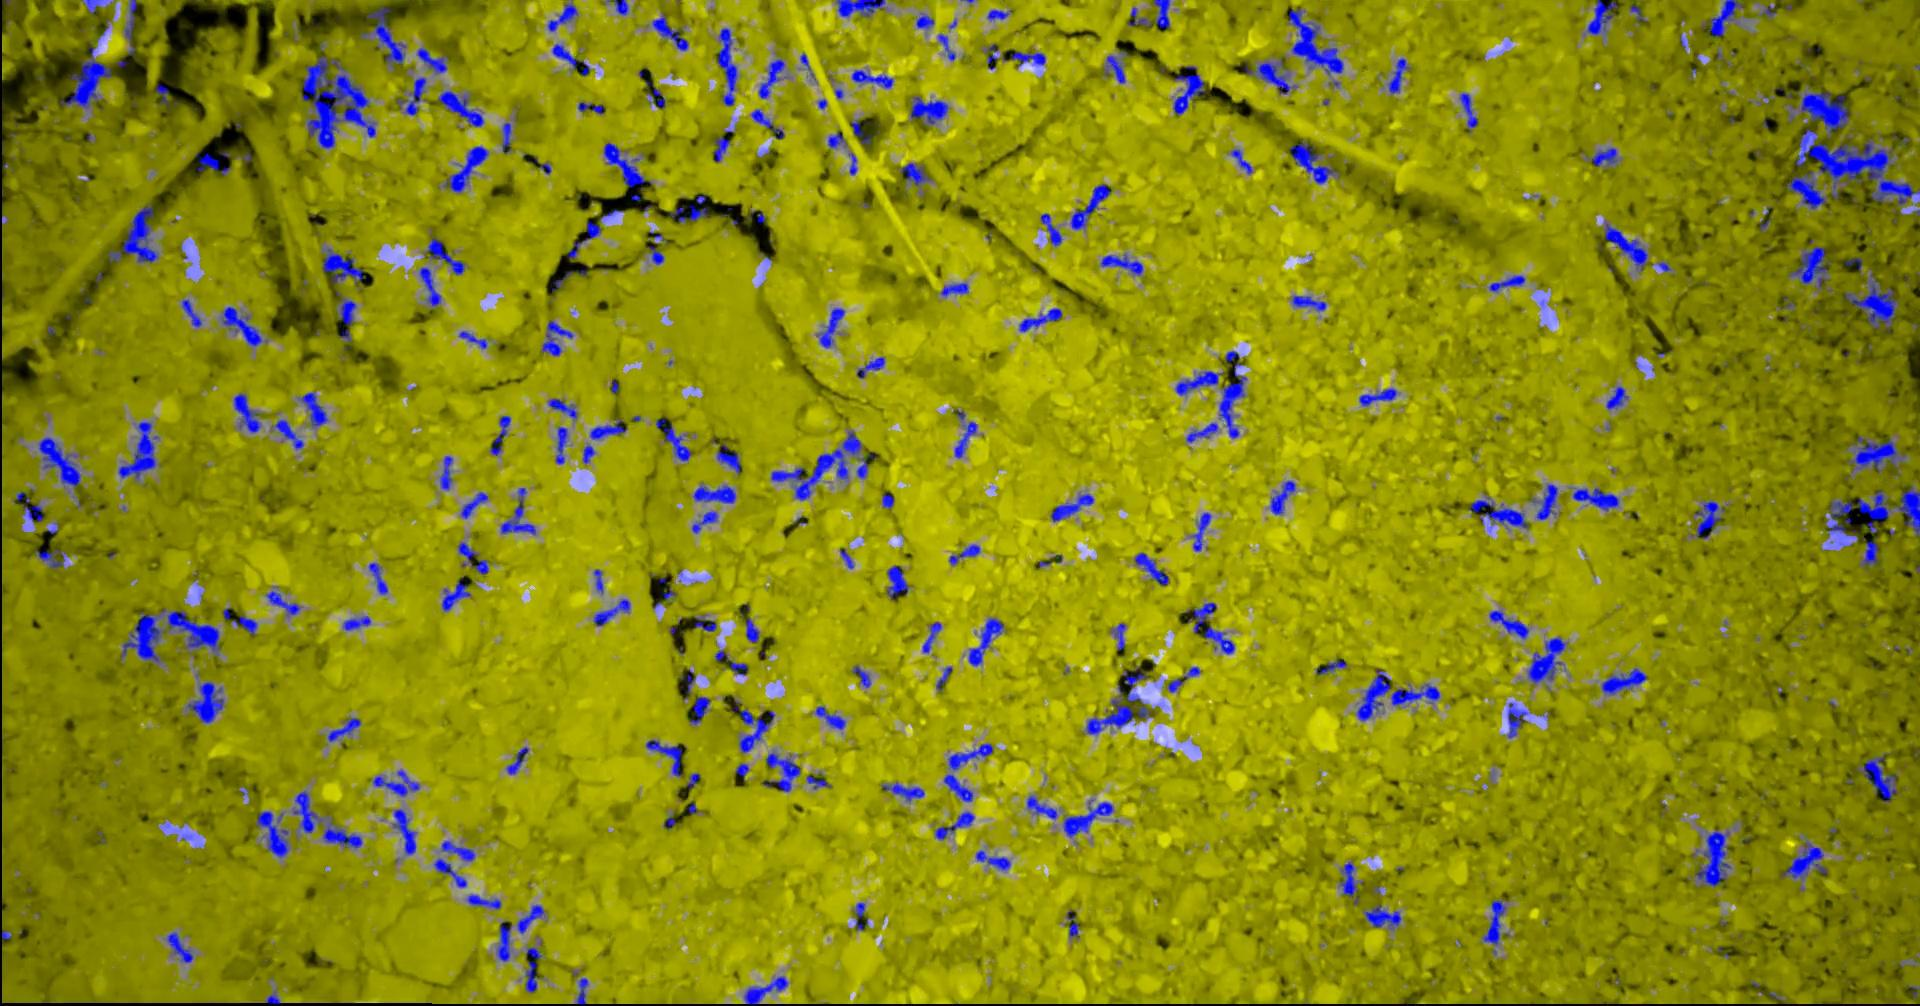ant: (729, 697, 775, 752), (1218, 351, 1246, 438), (366, 6, 405, 65), (118, 420, 157, 479), (603, 142, 651, 189), (1289, 138, 1338, 183), (38, 437, 80, 488), (442, 146, 488, 192), (1604, 222, 1647, 271), (1848, 434, 1903, 471), (1694, 829, 1730, 887), (1857, 753, 1897, 801), (1469, 495, 1528, 528), (1526, 636, 1566, 683), (1062, 801, 1112, 837), (1070, 183, 1110, 229), (1243, 58, 1295, 93), (1788, 246, 1830, 288), (221, 306, 265, 345), (968, 617, 1003, 666), (1780, 842, 1827, 878), (437, 90, 483, 126), (500, 486, 535, 533), (716, 27, 737, 105), (185, 681, 223, 723), (655, 417, 691, 461), (1173, 66, 1205, 116), (255, 810, 288, 857), (321, 248, 364, 283), (1785, 171, 1825, 210), (1702, 0, 1743, 36), (762, 752, 799, 791), (425, 238, 463, 274), (645, 739, 682, 776), (292, 790, 324, 832), (372, 768, 419, 796), (743, 976, 787, 1005), (651, 14, 687, 50), (947, 743, 993, 770), (568, 221, 601, 258), (551, 43, 589, 75), (1691, 500, 1723, 539), (1050, 493, 1093, 521), (1175, 370, 1222, 395), (395, 77, 425, 116), (1601, 668, 1647, 694), (232, 392, 262, 432), (935, 810, 974, 840), (817, 307, 844, 348), (1572, 486, 1619, 511), (1134, 553, 1168, 586), (1481, 899, 1505, 944), (910, 97, 949, 124), (1490, 610, 1528, 638), (669, 196, 709, 222), (1586, 0, 1617, 34), (541, 320, 571, 354), (1825, 500, 1855, 535), (392, 808, 415, 854), (1018, 307, 1062, 332), (1338, 861, 1363, 904), (1528, 484, 1557, 520), (323, 821, 361, 847), (750, 108, 783, 138), (335, 291, 356, 340), (298, 392, 328, 427), (265, 586, 300, 615), (758, 58, 783, 98), (457, 542, 488, 574), (1185, 602, 1217, 633), (433, 857, 466, 887), (1100, 253, 1142, 276), (593, 598, 629, 625), (441, 579, 470, 611), (1203, 626, 1234, 654), (881, 781, 924, 801), (954, 420, 977, 459), (1270, 480, 1295, 514), (1364, 904, 1399, 929), (274, 419, 303, 448), (15, 492, 43, 522), (489, 415, 510, 455), (1167, 666, 1199, 692), (547, 3, 577, 30), (516, 904, 543, 934), (1387, 57, 1410, 93), (166, 931, 193, 962), (851, 69, 893, 88), (836, 0, 884, 17), (714, 650, 747, 674), (328, 716, 361, 741), (589, 418, 626, 439), (196, 152, 230, 175), (943, 774, 971, 801), (417, 47, 447, 72), (419, 267, 439, 305), (692, 485, 735, 503), (524, 946, 541, 992), (1191, 512, 1210, 551), (460, 492, 488, 518), (886, 565, 908, 600), (1026, 794, 1057, 818), (1458, 91, 1477, 130), (1040, 213, 1062, 246), (441, 840, 474, 861), (716, 445, 740, 474), (1359, 387, 1396, 406), (1507, 702, 1528, 737), (975, 850, 1010, 870), (900, 163, 930, 185), (815, 706, 844, 729), (856, 356, 884, 379), (549, 398, 577, 420), (505, 746, 528, 774), (368, 561, 387, 594), (124, 0, 136, 55), (1186, 422, 1217, 442), (949, 544, 979, 564), (691, 511, 717, 533), (1103, 55, 1125, 83), (497, 920, 510, 962), (34, 547, 65, 567), (922, 621, 941, 652), (230, 614, 257, 635), (1488, 276, 1525, 291), (850, 119, 872, 144), (1010, 51, 1045, 66), (466, 894, 502, 909), (182, 298, 201, 326), (690, 696, 709, 724), (1606, 385, 1628, 409), (1862, 537, 1879, 567), (1590, 147, 1617, 166), (1291, 295, 1324, 310), (1152, 0, 1170, 28), (458, 330, 486, 348), (1230, 149, 1251, 173), (555, 426, 568, 464), (937, 33, 955, 60), (1316, 659, 1346, 674), (439, 455, 452, 489), (342, 615, 370, 630), (712, 136, 729, 161), (551, 271, 571, 291), (1128, 8, 1150, 25), (936, 666, 951, 691), (648, 86, 665, 108), (852, 666, 870, 687), (806, 774, 830, 789), (577, 102, 604, 114), (940, 282, 968, 295), (1112, 622, 1125, 650), (855, 902, 867, 930), (1065, 909, 1078, 937), (681, 669, 695, 694), (607, 0, 629, 15), (695, 616, 716, 631), (985, 43, 998, 69), (155, 84, 169, 107), (577, 977, 588, 1005), (745, 617, 758, 641), (1629, 5, 1647, 22), (985, 9, 1011, 20), (502, 122, 510, 152), (827, 132, 844, 147), (1844, 257, 1862, 272), (649, 245, 663, 264), (839, 549, 853, 568), (81, 0, 102, 13), (582, 445, 594, 464), (916, 15, 933, 28), (593, 568, 602, 593), (735, 763, 748, 781), (686, 774, 700, 789), (265, 991, 281, 1005), (881, 493, 893, 508), (848, 152, 856, 174)
